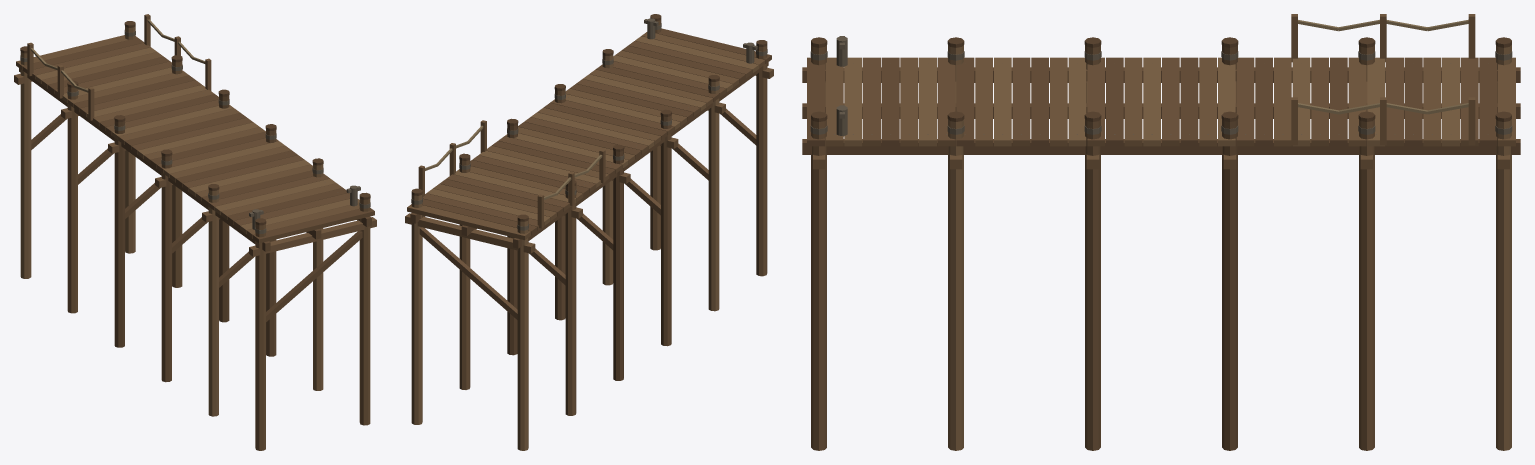
Rendered from timber_pier.glb.
The picture shows the model from 3 angles, left to right: view 1: azimuth 30°, elevation 25°; view 2: azimuth 150°, elevation 25°; view 3: azimuth 270°, elevation 25°; orthographic projection. The views are drawn at different scales.
Visible parts, largest first — view 1: timber_pier_Harbor oak plank 1, timber_pier_Harbor oak plank 0, timber_pier_Harbor oak plank 2, timber_pier_Harbor oak plank 3, timber_pier_Keeper dark forged bronze, timber_pier_Harbor timber end grain, timber_pier_Harbor hemp lashings; view 2: timber_pier_Harbor oak plank 1, timber_pier_Harbor oak plank 2, timber_pier_Harbor oak plank 0, timber_pier_Harbor oak plank 3, timber_pier_Keeper dark forged bronze, timber_pier_Harbor timber end grain, timber_pier_Harbor hemp lashings; view 3: timber_pier_Harbor oak plank 1, timber_pier_Harbor oak plank 0, timber_pier_Harbor oak plank 2, timber_pier_Harbor oak plank 3, timber_pier_Keeper dark forged bronze, timber_pier_Harbor timber end grain, timber_pier_Harbor hemp lashings.
Part boxes in pixels (x1,y1,x2,y2): timber_pier_Harbor oak plank 1: (14,14,376,450); timber_pier_Harbor oak plank 0: (19,38,374,347); timber_pier_Harbor oak plank 2: (20,26,359,416); timber_pier_Harbor oak plank 3: (30,43,349,382); timber_pier_Keeper dark forged bronze: (20,30,370,233); timber_pier_Harbor timber end grain: (20,21,370,225); timber_pier_Harbor hemp lashings: (30,19,205,92); timber_pier_Harbor oak plank 1: (405,19,773,415); timber_pier_Harbor oak plank 2: (411,36,758,450); timber_pier_Harbor oak plank 0: (410,28,771,380); timber_pier_Harbor oak plank 3: (423,41,752,346); timber_pier_Keeper dark forged bronze: (411,18,767,230); timber_pier_Harbor timber end grain: (411,14,767,221); timber_pier_Harbor hemp lashings: (425,125,602,199); timber_pier_Harbor oak plank 1: (811,14,1515,450); timber_pier_Harbor oak plank 0: (802,45,1520,450); timber_pier_Harbor oak plank 2: (844,45,1511,450); timber_pier_Harbor oak plank 3: (863,45,1478,450); timber_pier_Keeper dark forged bronze: (810,36,1512,136); timber_pier_Harbor timber end grain: (811,37,1511,121); timber_pier_Harbor hemp lashings: (1298,19,1468,114).
Bounding box in the file's own units: 4.7 × 8.8 × 16.2.
